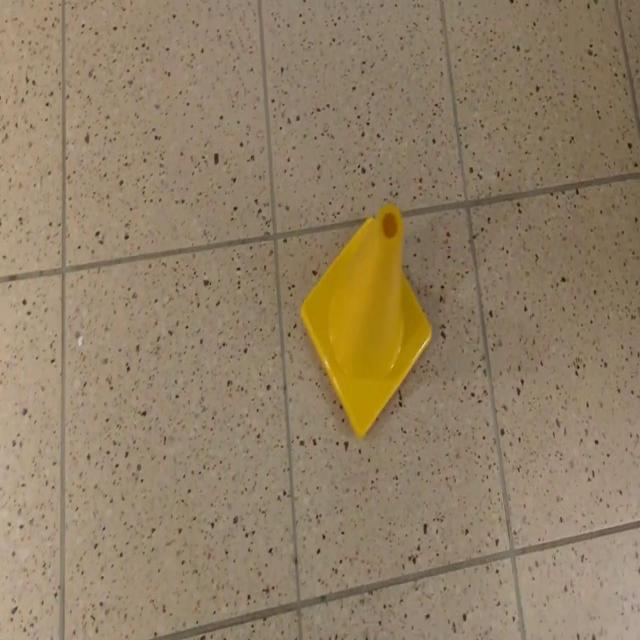frc_cone: (298, 202, 434, 445)
